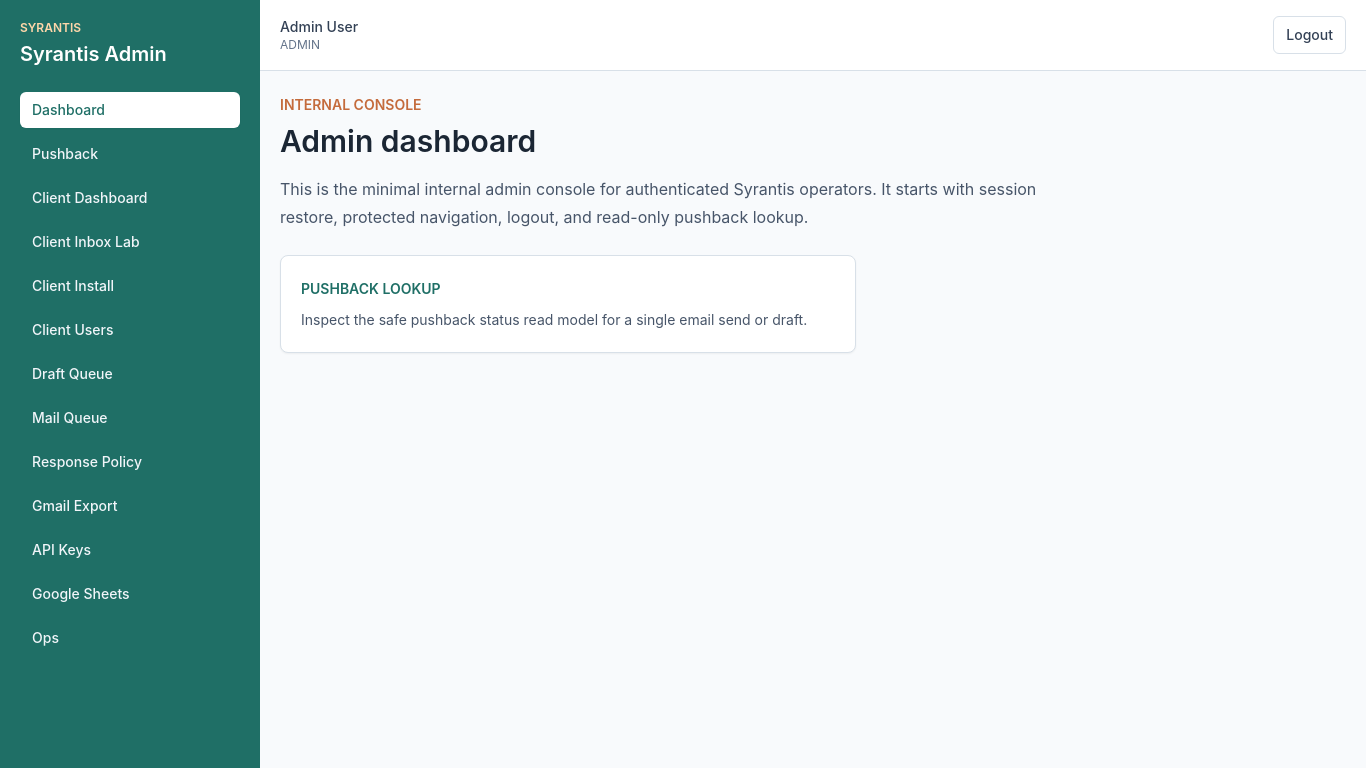
admin app › logs out through the backend and redirects
This screenshot has width=1366, height=768.
What coordinates should you click on to do the following:
click the button "Logout"
I would click on:
 (1310, 35)
Its box is [1273,16,1346,54].
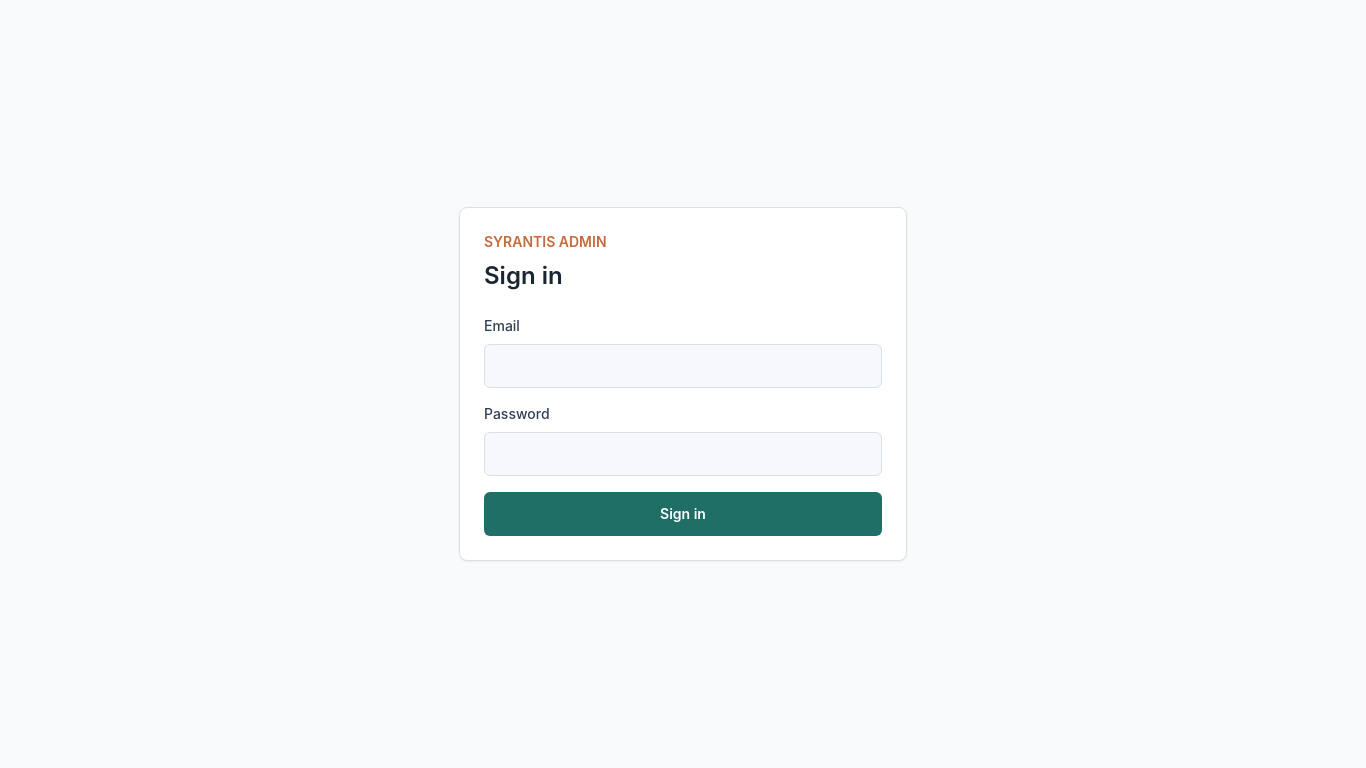
Expected: the heading "Sign in" is shown, [484,261,563,290]
